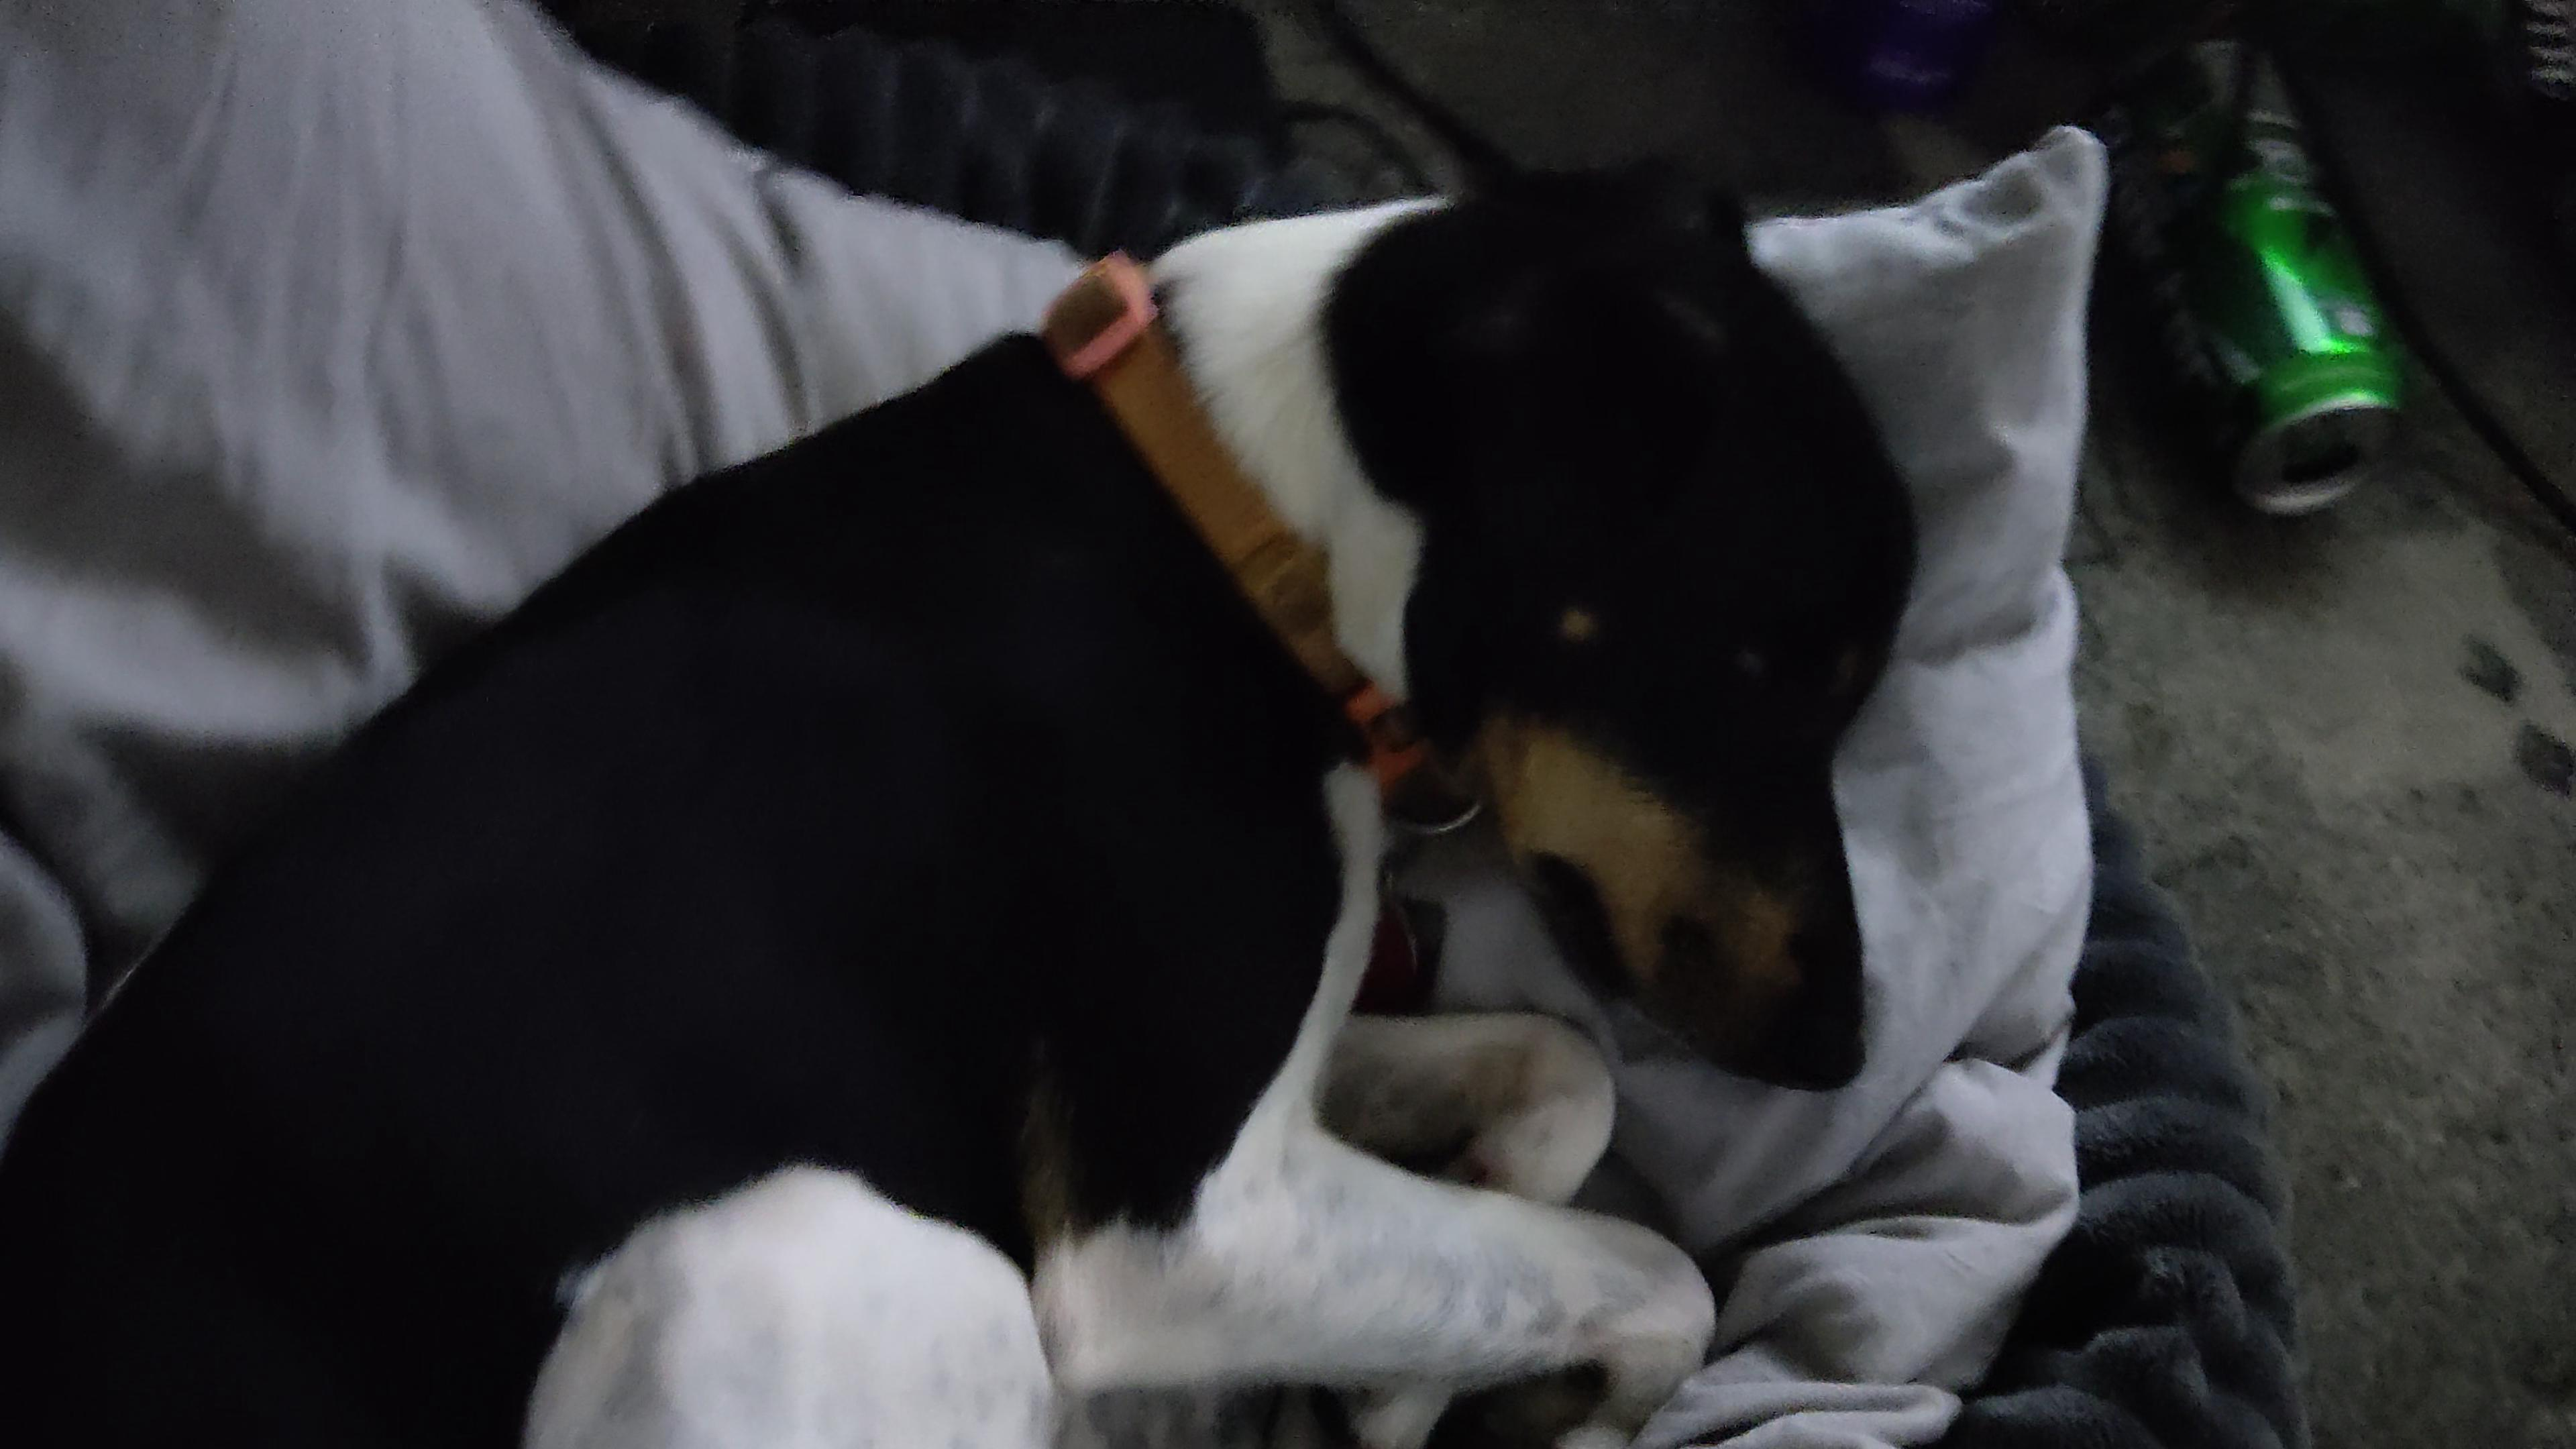Dog: (0, 133, 1944, 1449)
